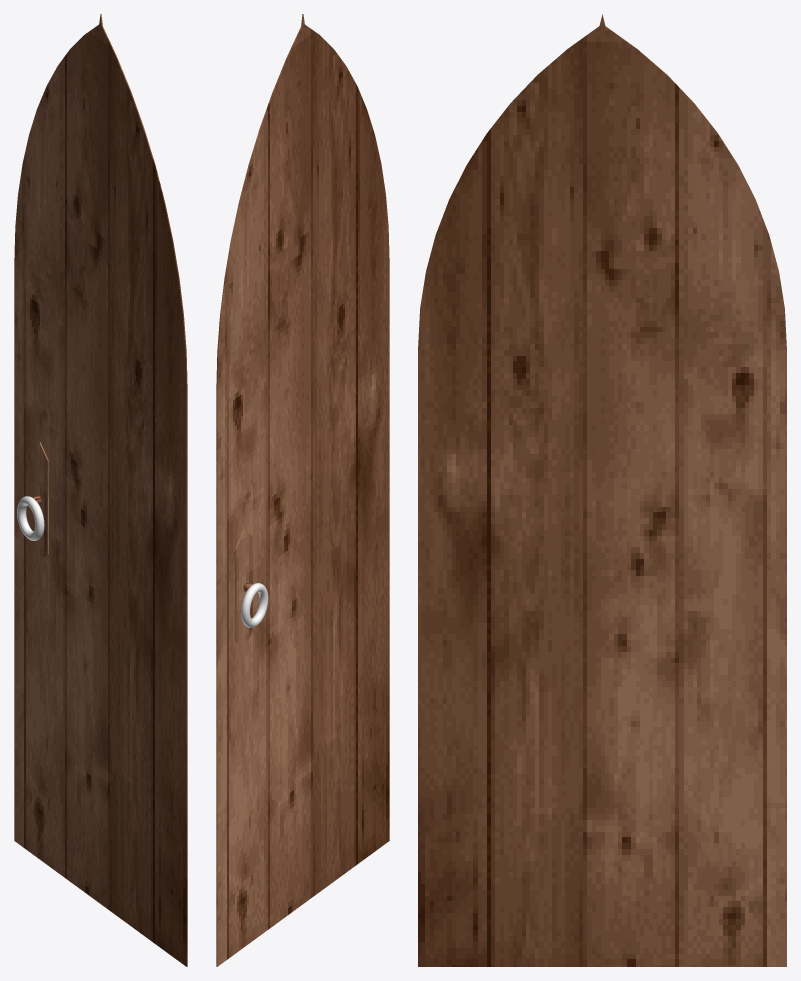
The model's file is mausoleum_door.gltf.
3 renders of one model, left to right at view 1: azimuth 30°, elevation 25°; view 2: azimuth 150°, elevation 25°; view 3: azimuth 270°, elevation 25°, orthographic. The views are drawn at different scales.
Visible parts, largest first — view 1: door; view 2: door; view 3: door.
Boxes of the visible parts, x1=… form: door: x1=14, y1=14, x2=187, y2=966; door: x1=216, y1=14, x2=389, y2=966; door: x1=418, y1=14, x2=786, y2=966.
Bounding box in the file's own units: 0.1528 × 8.45 × 2.96.
Materials: 2 (1 with a texture image).
